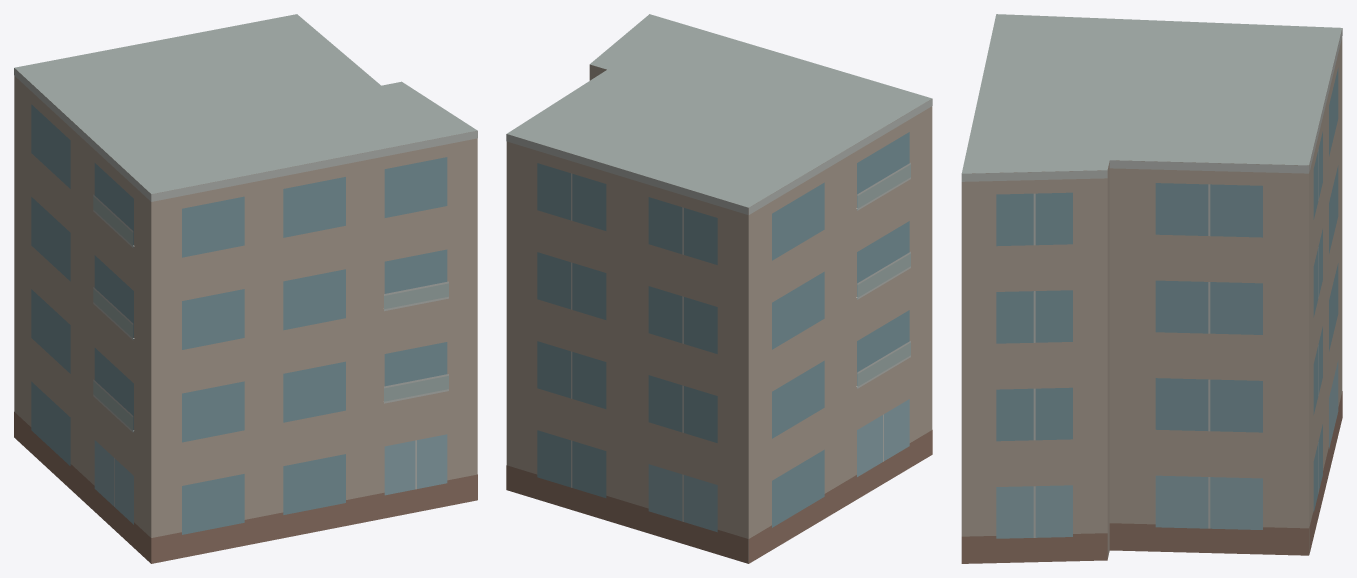
Rendered from survey-upis-32931720.glb.
3 views of the same model, side by side, from view 1: azimuth 30°, elevation 25°; view 2: azimuth 150°, elevation 25°; view 3: azimuth 270°, elevation 25° (orthographic). The views are drawn at different scales.
Parts seen in each view (by area): view 1: survey-upis-32931720.tmp; view 2: survey-upis-32931720.tmp; view 3: survey-upis-32931720.tmp.
Boxes of the visible parts, x1,y1,x2,y2 form: survey-upis-32931720.tmp: [14, 14, 477, 563]; survey-upis-32931720.tmp: [506, 14, 932, 563]; survey-upis-32931720.tmp: [961, 14, 1342, 563].
Size of the model in its own units: 10.19 by 11.6 by 10.27.
